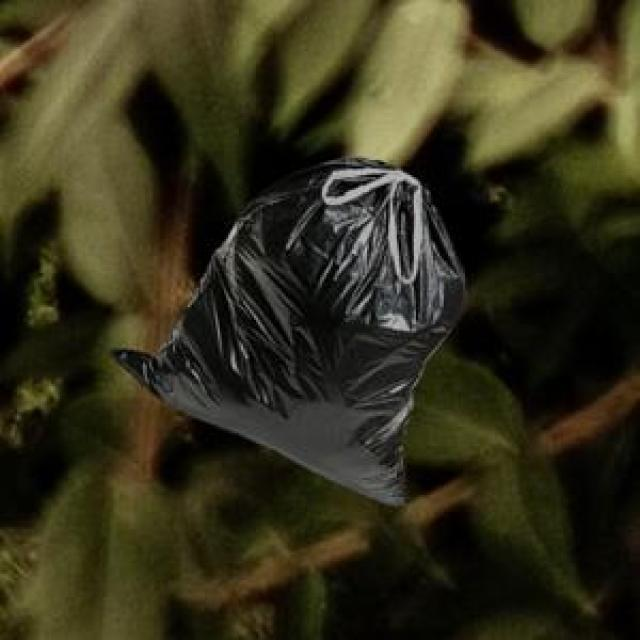miscellaneous trash: (105, 154, 461, 501)
